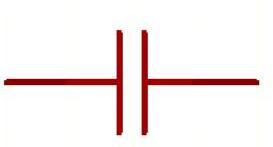Capacitor: (94, 26, 180, 137)
